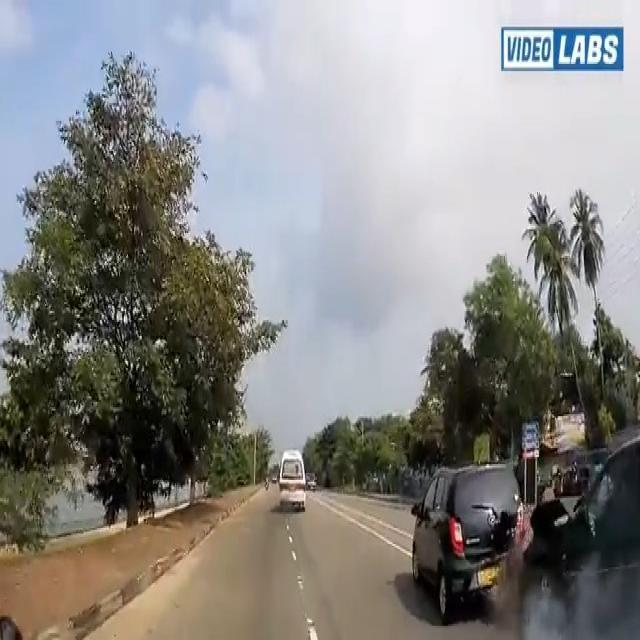normal: (384, 440, 599, 640), (271, 429, 320, 526)
